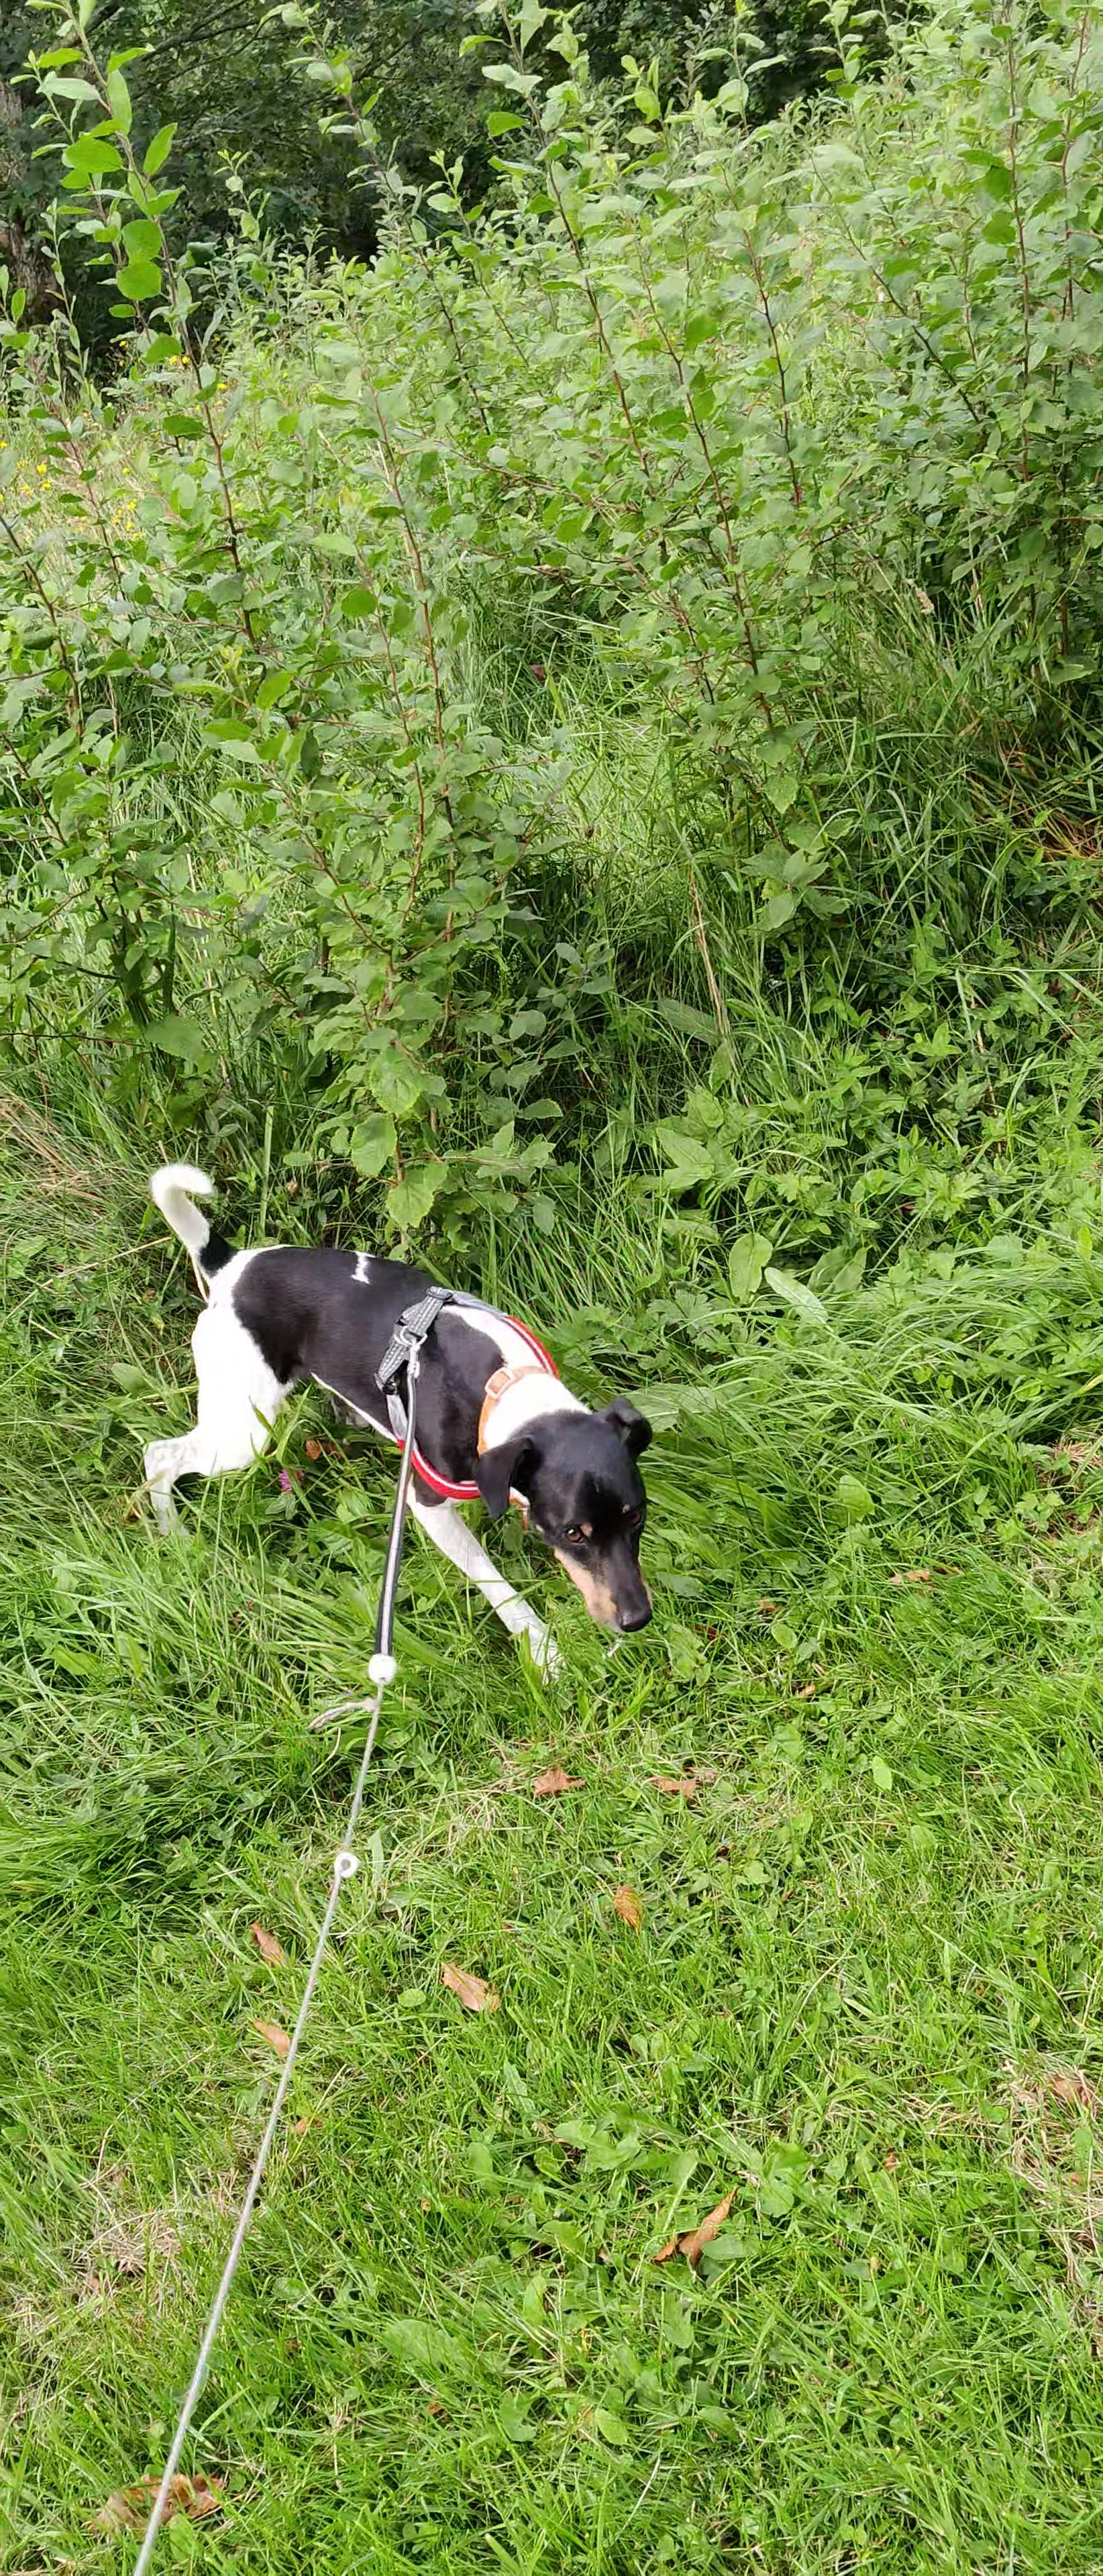Dog: (132, 1155, 687, 1699)
